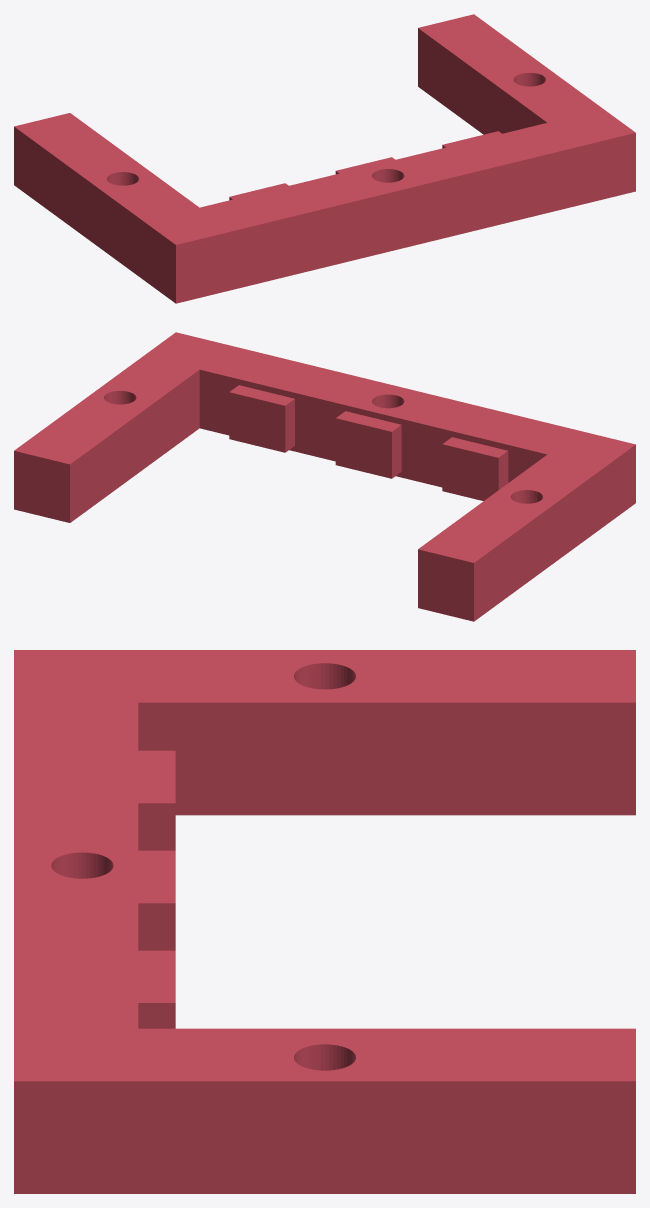
File: kalıperkek.glb
3 views of the same model, one above another, from view 1: azimuth 30°, elevation 25°; view 2: azimuth 150°, elevation 25°; view 3: azimuth 270°, elevation 25° (orthographic). The views are drawn at different scales.
Visible parts, largest first — view 1: Mesh_Mesh_head_geo.001_lambert2SG.001; view 2: Mesh_Mesh_head_geo.001_lambert2SG.001; view 3: Mesh_Mesh_head_geo.001_lambert2SG.001.
Part boxes in pixels (x1,y1,x2,y2): Mesh_Mesh_head_geo.001_lambert2SG.001: (14,14,635,303); Mesh_Mesh_head_geo.001_lambert2SG.001: (14,332,635,621); Mesh_Mesh_head_geo.001_lambert2SG.001: (14,650,635,1193).
Size of the model in its own units: 0.164 by 0.02 by 0.1.
